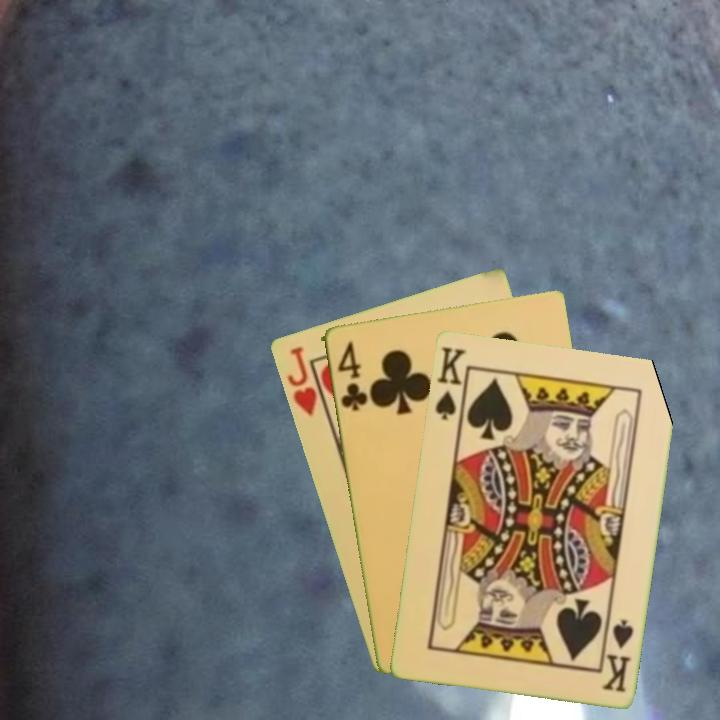4c: (333, 337, 369, 413)
Jh: (283, 342, 330, 420)
Ks: (431, 342, 470, 426), (598, 615, 636, 695)
